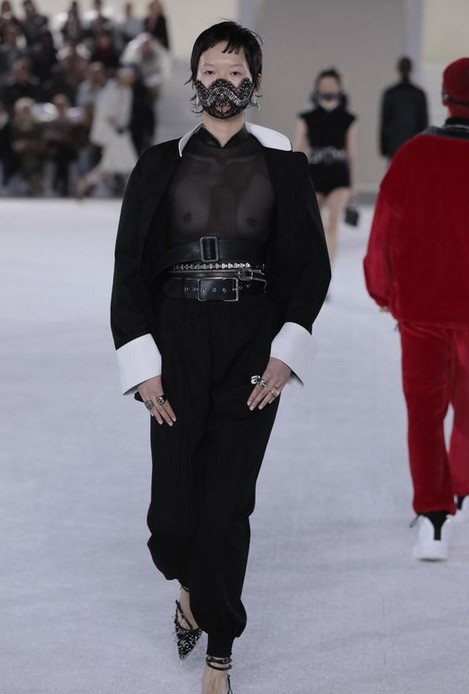face_with_mask: (193, 26, 259, 119)
